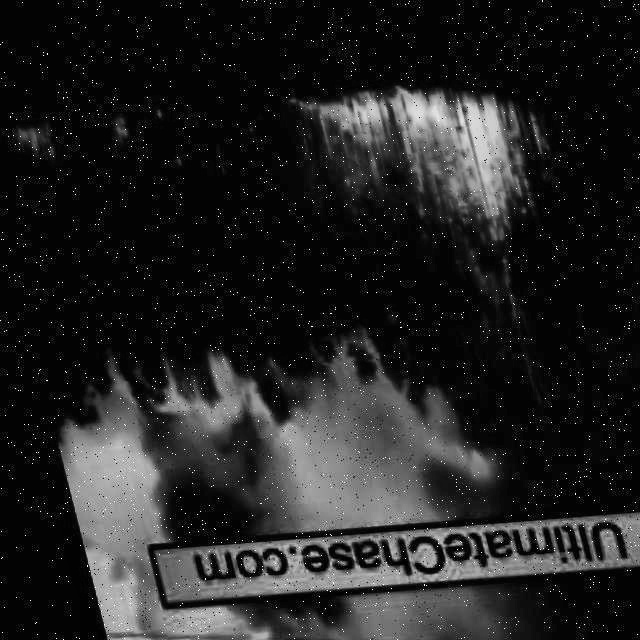Fire: (287, 56, 553, 241), (104, 98, 189, 174), (195, 366, 278, 438), (435, 427, 502, 500), (9, 118, 55, 176)
